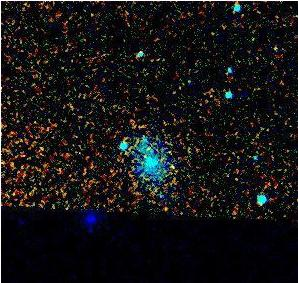star: (157, 150, 187, 180)
